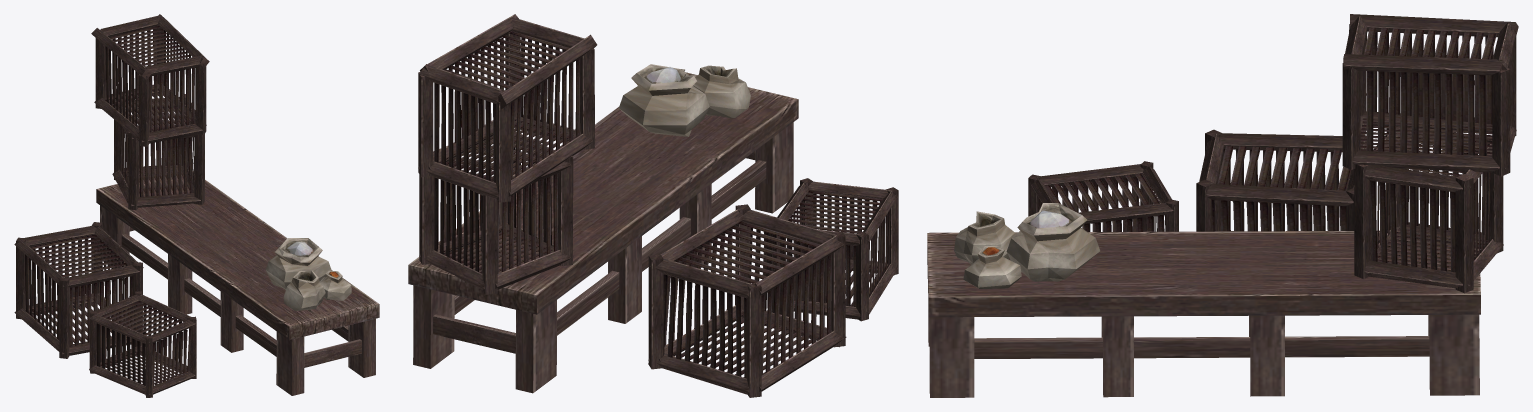
File: 杂物摊03.fbx
3 views of the same model, side by side, from view 1: azimuth 30°, elevation 25°; view 2: azimuth 150°, elevation 25°; view 3: azimuth 270°, elevation 25° (orthographic). The views are drawn at different scales.
Visible parts, largest first — view 1: qingmo_obj_259 [10484198]; view 2: qingmo_obj_259 [10484198]; view 3: qingmo_obj_259 [10484198].
Boxes of the visible parts, x1,y1,x2,y2 form: qingmo_obj_259 [10484198]: (14,14,379,397); qingmo_obj_259 [10484198]: (408,14,898,397); qingmo_obj_259 [10484198]: (927,14,1518,397).
Size of the model in its own units: 18.4 by 29.02 by 17.74.
2 materials, 2 textured.
